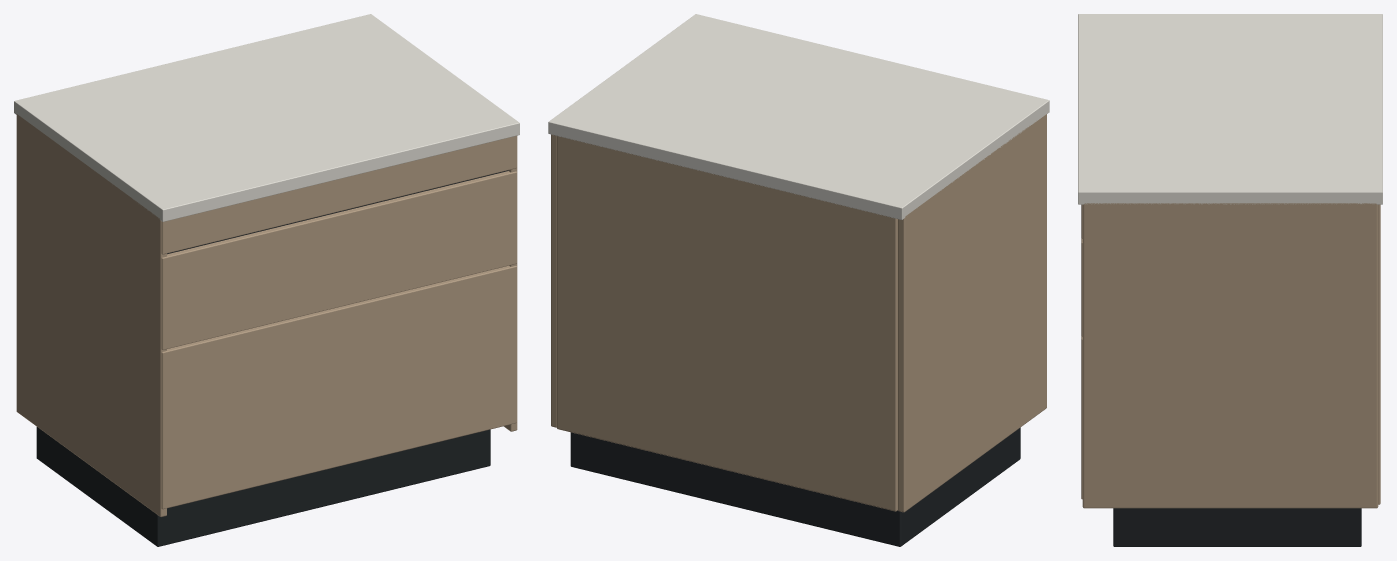
File: original-kitchen-box-drawer900.glb
3 views of the same model, side by side, from view 1: azimuth 30°, elevation 25°; view 2: azimuth 150°, elevation 25°; view 3: azimuth 270°, elevation 25° (orthographic). The views are drawn at different scales.
Visible parts, largest first — view 1: original-kitchen-box-drawer900; view 2: original-kitchen-box-drawer900; view 3: original-kitchen-box-drawer900.
Boxes of the visible parts, <box> form: original-kitchen-box-drawer900: <box>14,14,519,546</box>; original-kitchen-box-drawer900: <box>548,14,1049,546</box>; original-kitchen-box-drawer900: <box>1078,14,1382,546</box>.
Size of the model in its own units: 0.9 by 0.85 by 0.65.
